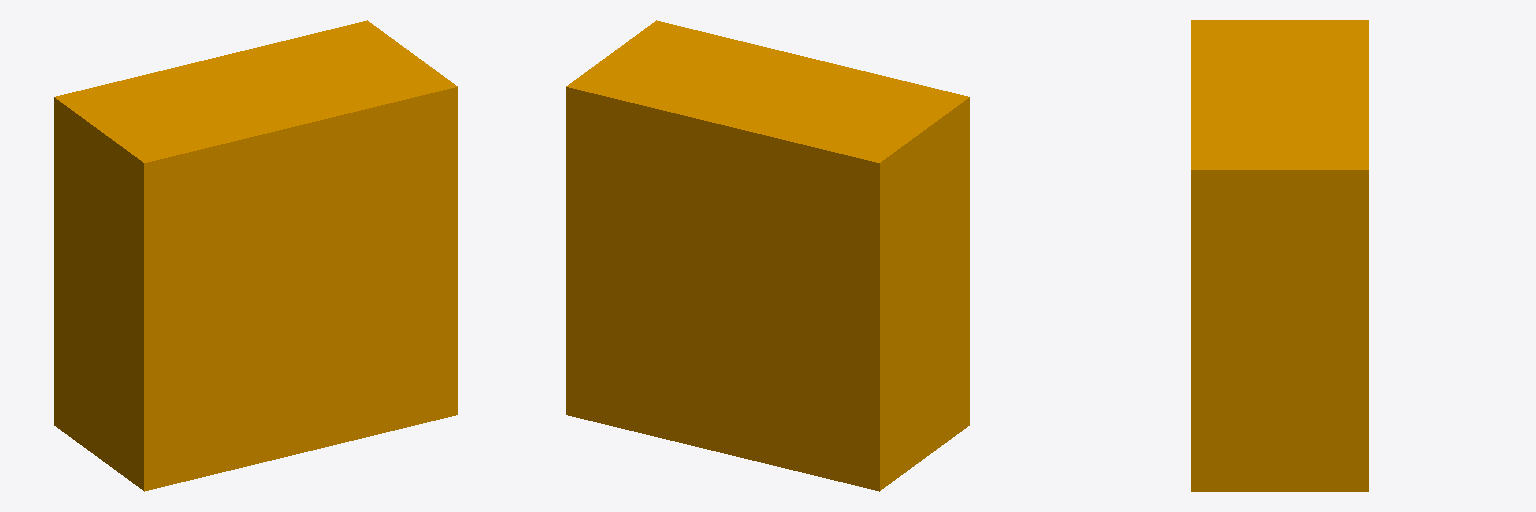
The robot description file, URDF, robot "my_robot":
<?xml version ="1.0"?>
<robot name="my_robot">
    <link name="base_link">
        <visual>
            <geometry>
                <box size="1 0.5 1"/>
            </geometry>
        </visual>
    </link>
</robot>

--- What the picture shows (computed from the rendered views, not written in the file) ---
Views: 3 orthographic renders of the robot side by side, from view 1: azimuth 30°, elevation 25°; view 2: azimuth 150°, elevation 25°; view 3: azimuth 270°, elevation 25°.
Robot: my_robot — 1 links, 0 joints (none); root link base_link; default pose: all joints at 0.
Visible links, largest first — view 1: base_link; view 2: base_link; view 3: base_link.
Boxes of the visible links, x1=… form: base_link: x1=54, y1=20, x2=457, y2=491; base_link: x1=566, y1=20, x2=969, y2=491; base_link: x1=1191, y1=20, x2=1368, y2=491.
Bounding box of the posed robot: 1 × 0.5 × 1 m (x, y, z).
Geometry: primitives only (box / cylinder / sphere), no mesh files.